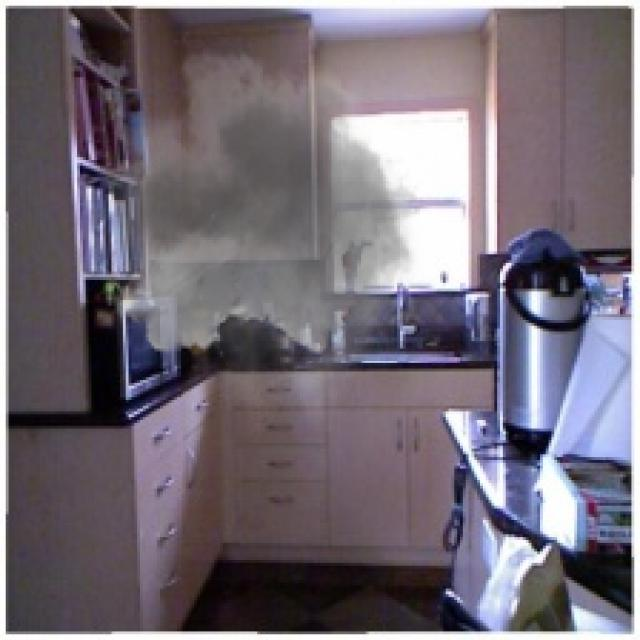smoke: (94, 32, 437, 434)
